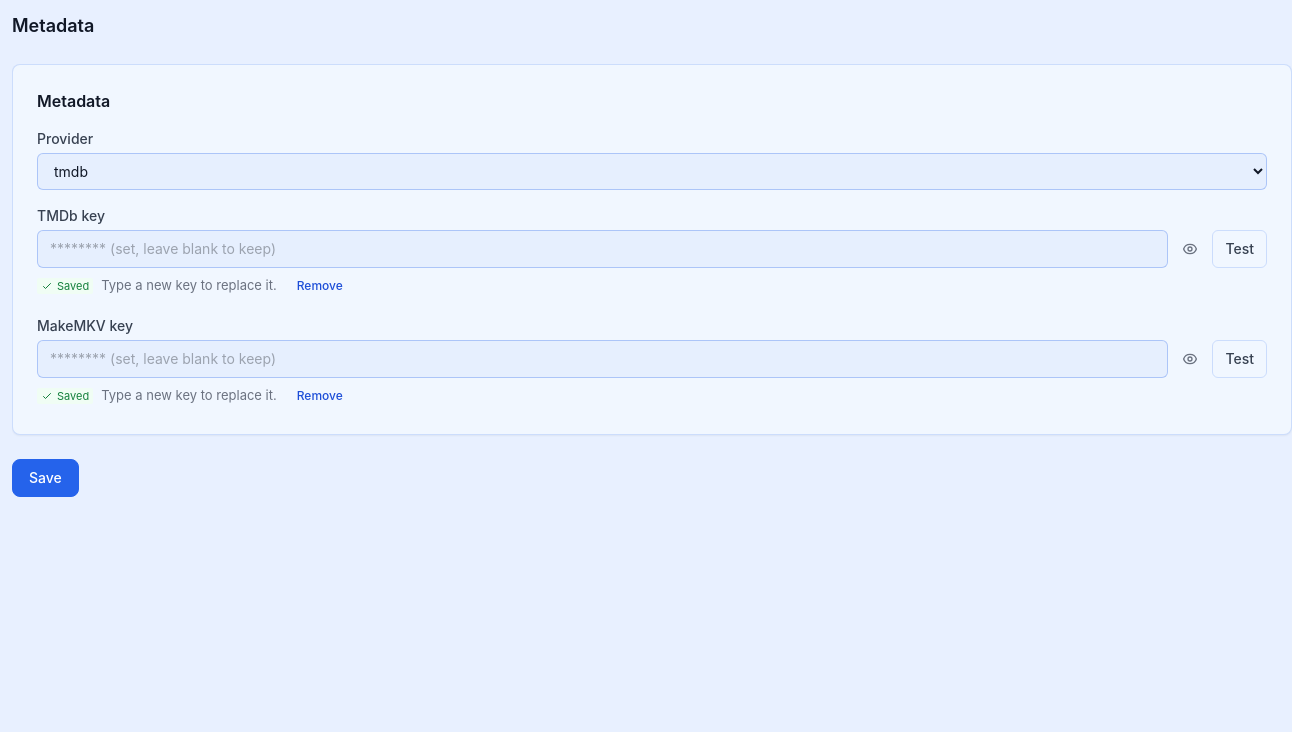
Test case: SchemaConfigForm key-check button › renders the unknown result with its detail
The image size is (1292, 732).
Click the 1st button "Test".
click(1240, 249)  # box [1212,230,1267,268]
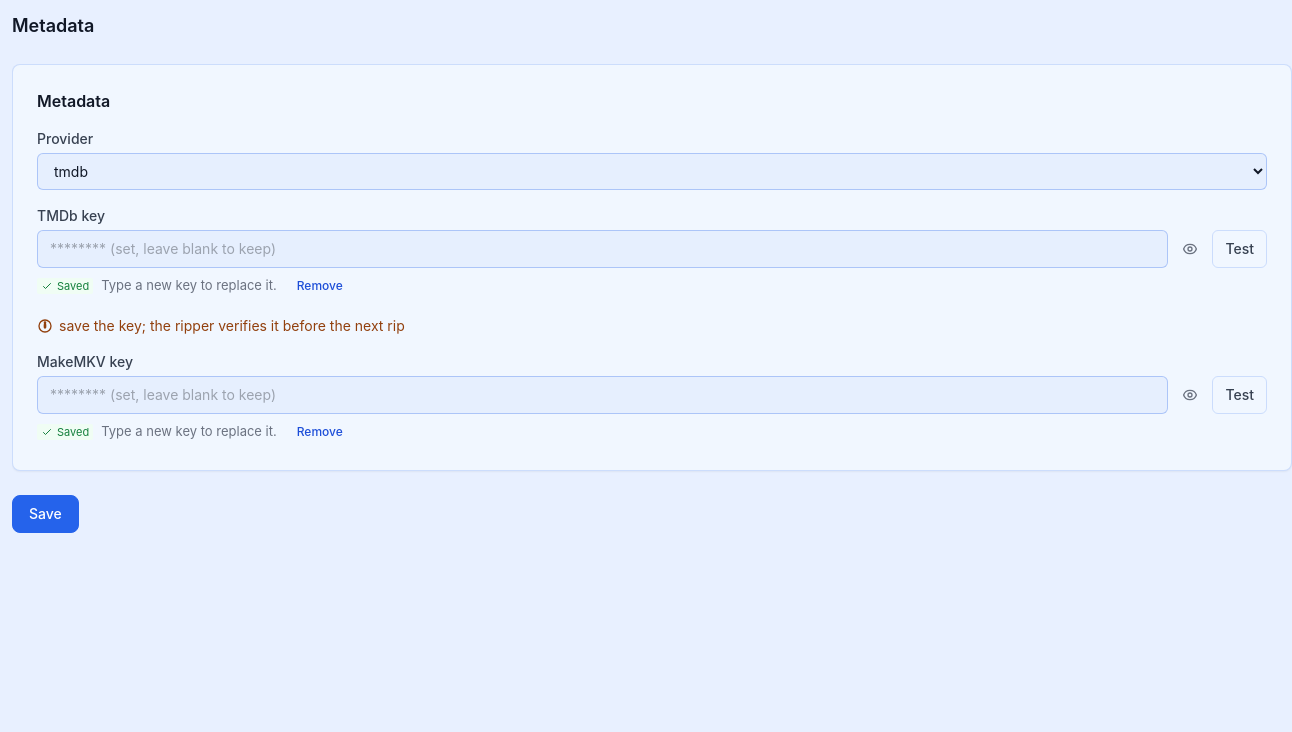
Check: the element with test id "key-check-tmdb_api_key" reads "save the key; the ripper verifies it before the next rip", box [59,317,405,334]
